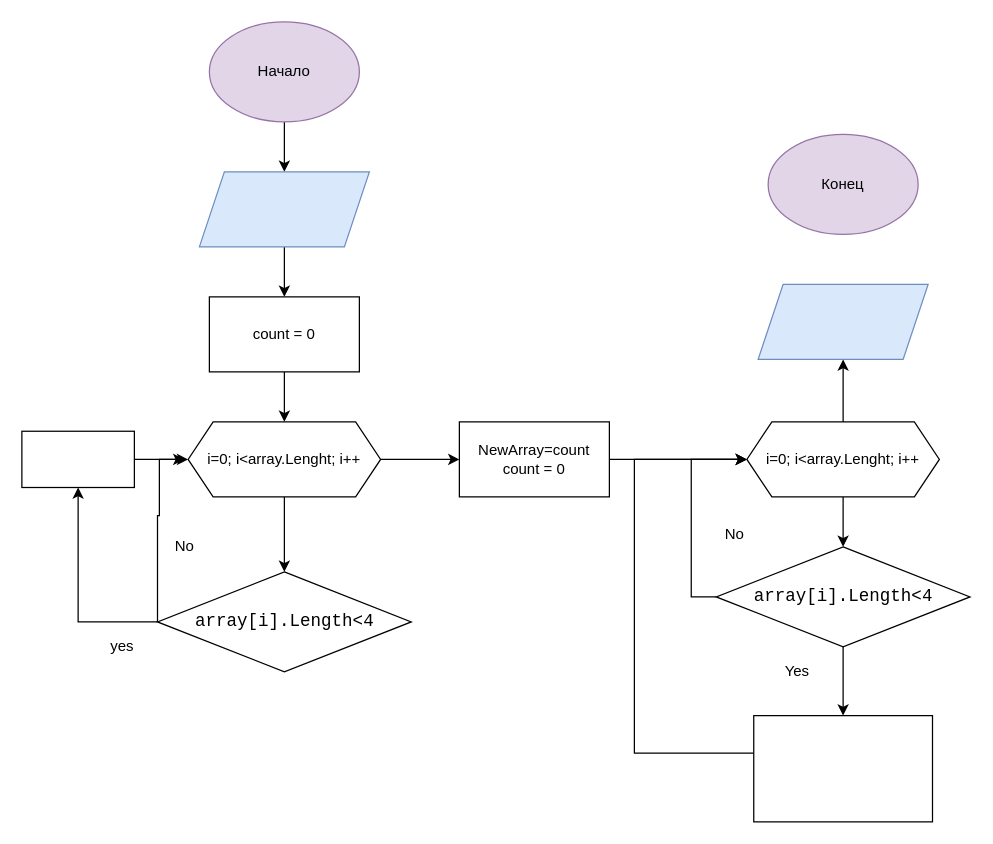
This 993x844 diagram has some shape labels left out. The shapes that lost their labels are listed below. From the top down, each one's centre as x and y in pixels, then its label:
At pixel 283 209: "Ввод: Array".
At pixel 842 321: "Вывод Array NewArray".
At pixel 77 459: "count++".
At pixel 842 768: "NewArray[count]=array[i] count++".
